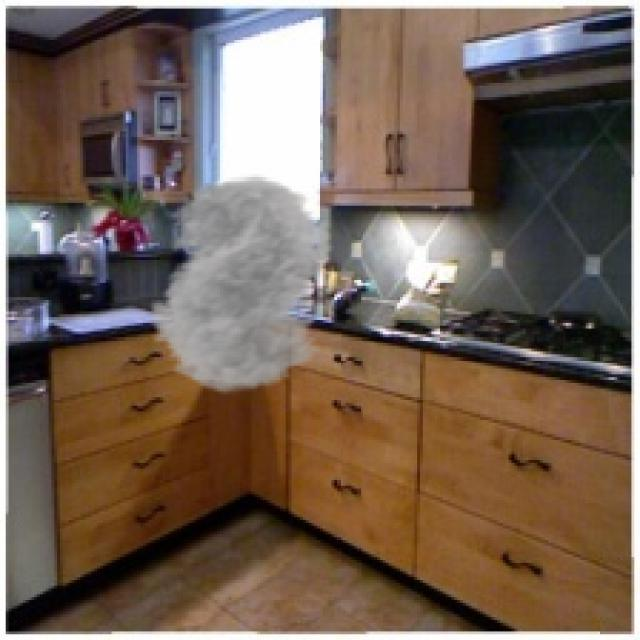Smoke: (132, 174, 358, 394)
